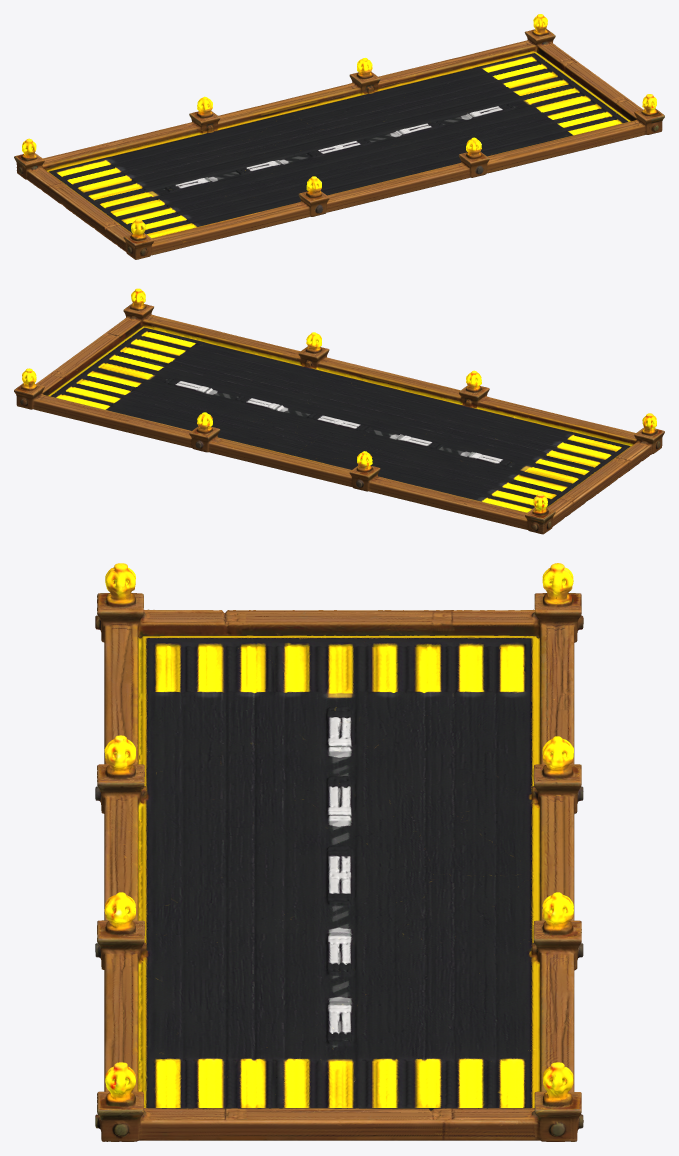
Rendered from Meshy_AI_Lantern_Lined_Wooden__0511185209_texture.fbx.
3 views of the same model, one above another, from view 1: azimuth 30°, elevation 25°; view 2: azimuth 150°, elevation 25°; view 3: azimuth 270°, elevation 25° (orthographic). The views are drawn at different scales.
Parts seen in each view (by area): view 1: Mesh_0; view 2: Mesh_0; view 3: Mesh_0.
Part boxes in pixels (left/top/right/bottom): Mesh_0: left=14, top=14, right=664, bottom=259; Mesh_0: left=14, top=288, right=664, bottom=534; Mesh_0: left=95, top=563, right=583, bottom=1141.
Bounding box in the file's own units: 190 × 12.1 × 75.7.
Materials: 1 (1 with a texture image).
